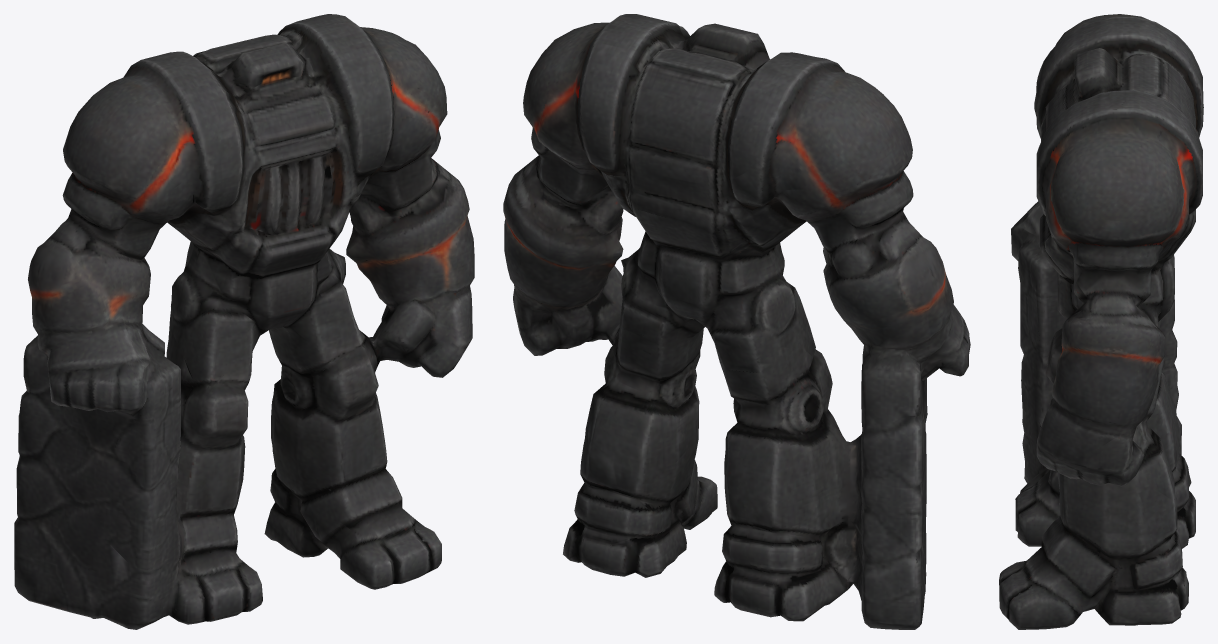
The model's file is cinder_warden_v2.glb.
The picture shows the model from 3 angles, left to right: view 1: azimuth 30°, elevation 25°; view 2: azimuth 150°, elevation 25°; view 3: azimuth 270°, elevation 25°; orthographic projection. The views are drawn at different scales.
Parts seen in each view (by area): view 1: cinder-warden-m0-8000-v1; view 2: cinder-warden-m0-8000-v1; view 3: cinder-warden-m0-8000-v1.
Boxes of the visible parts, x1,y1,x2,y2 form: cinder-warden-m0-8000-v1: (14, 14, 474, 629); cinder-warden-m0-8000-v1: (503, 14, 970, 629); cinder-warden-m0-8000-v1: (999, 14, 1203, 629).
Bounding box in the file's own units: 0.868 × 1 × 0.3651.
1 material, 1 textured.
